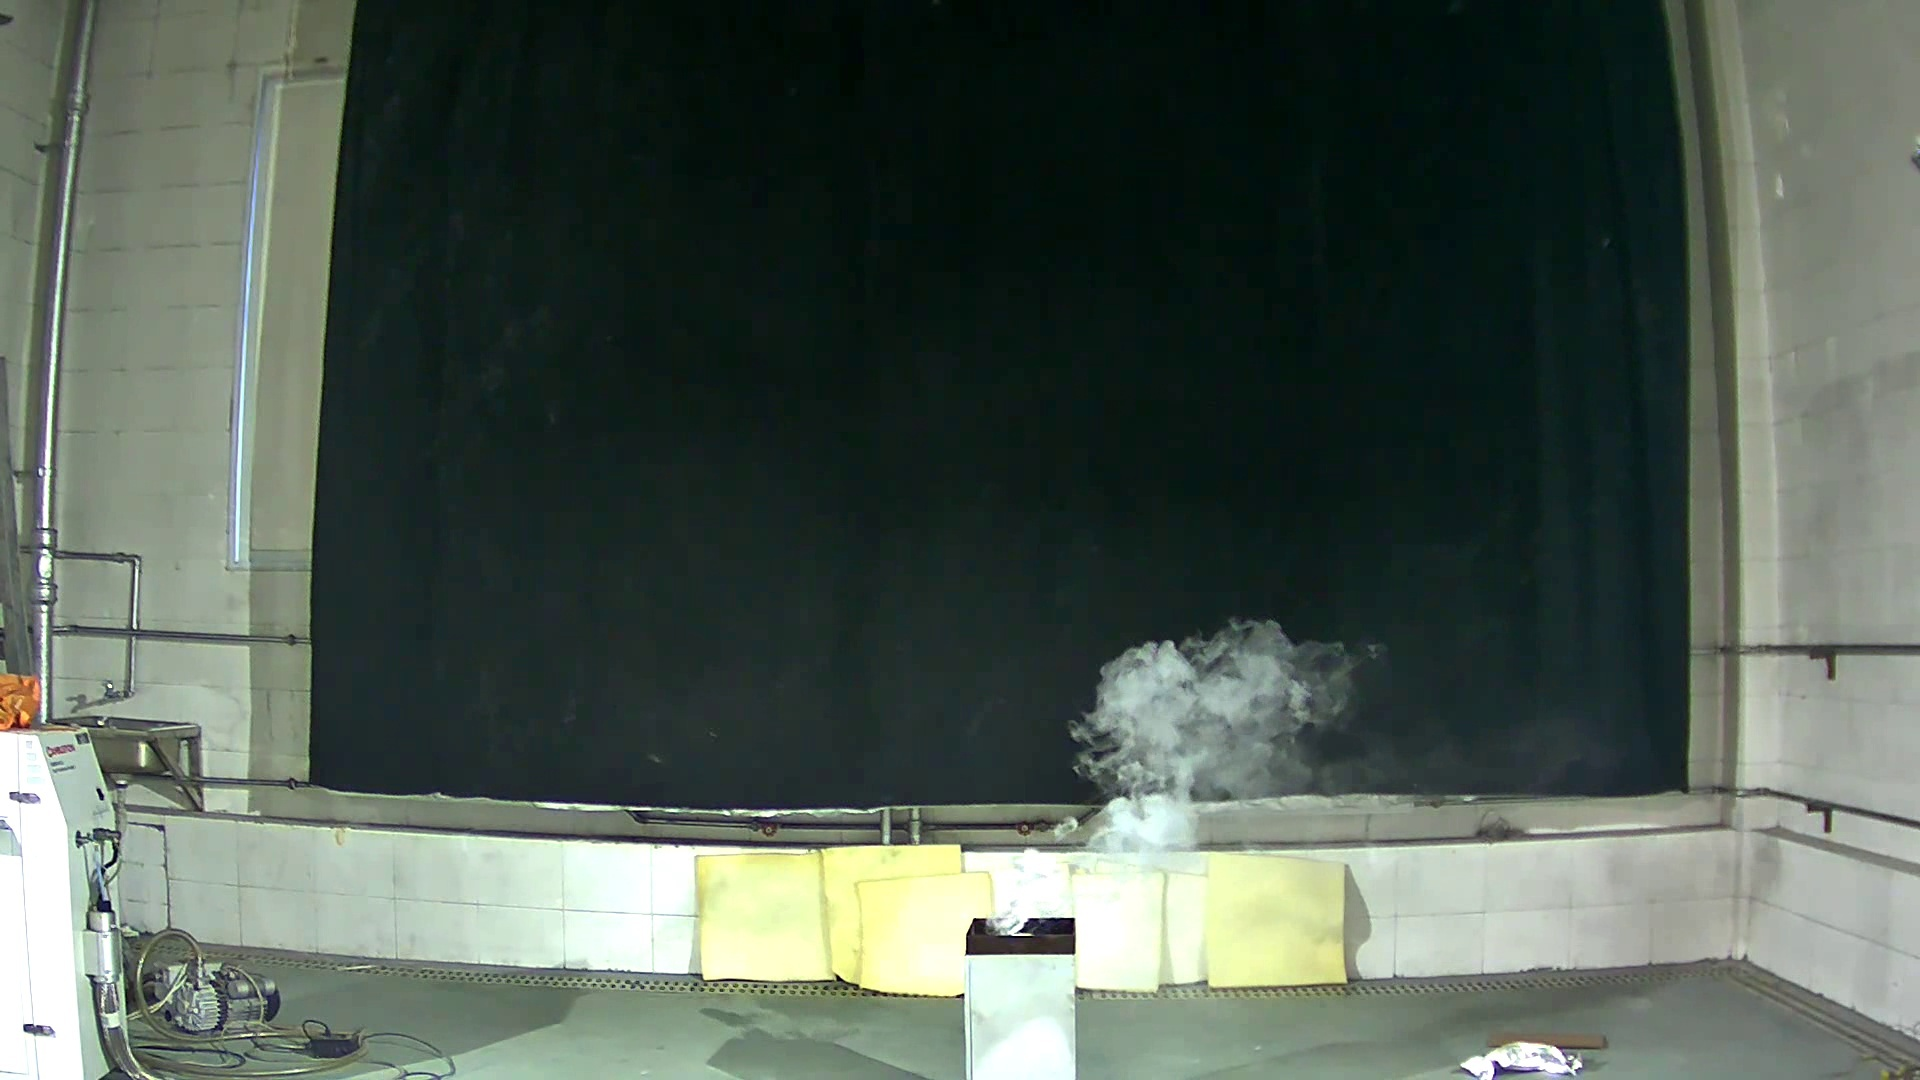smoke: (961, 595, 1383, 924)
